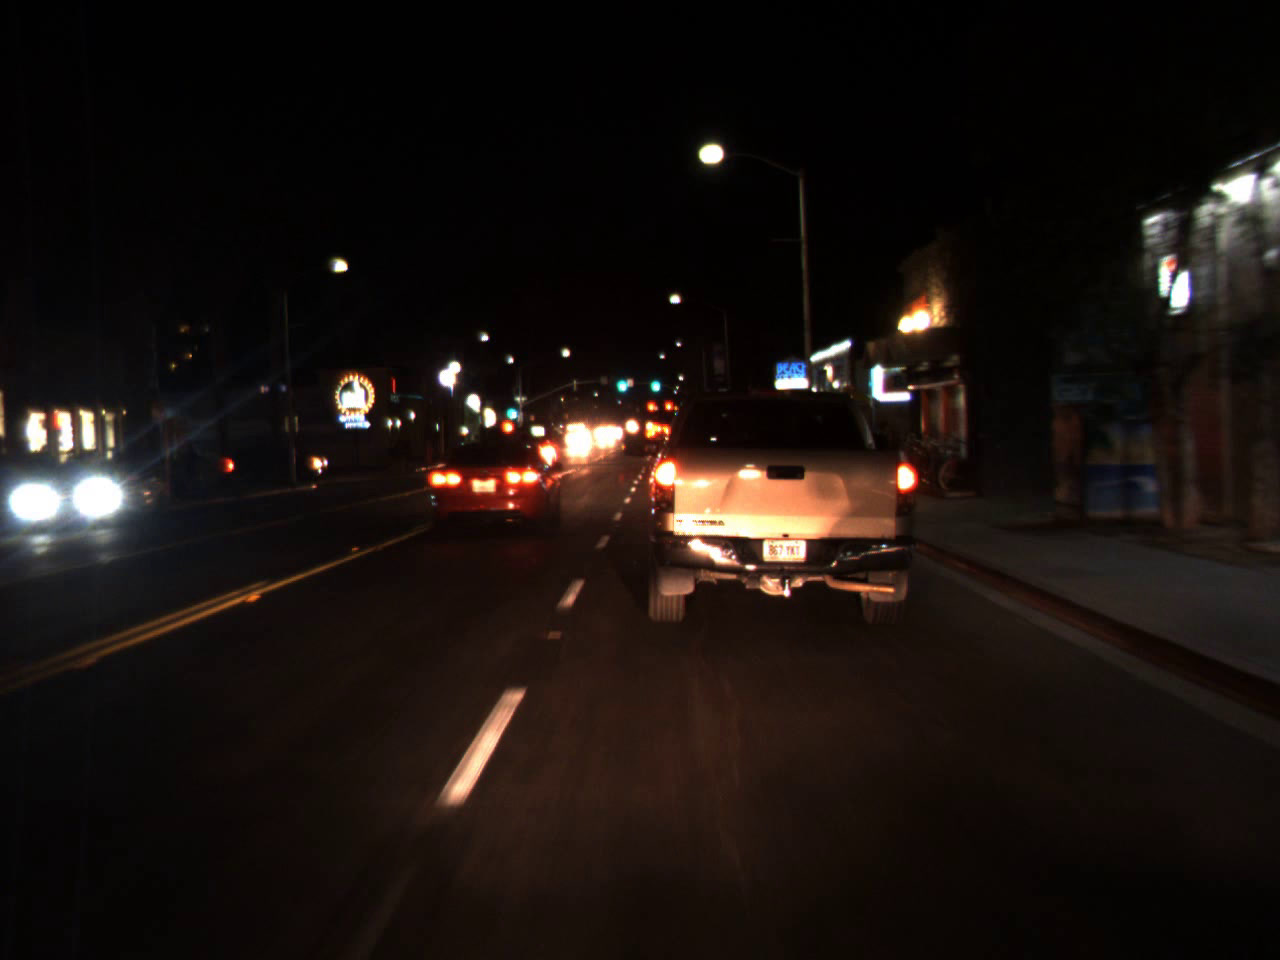go: (613, 366, 631, 396), (648, 368, 662, 395), (502, 397, 518, 421)
